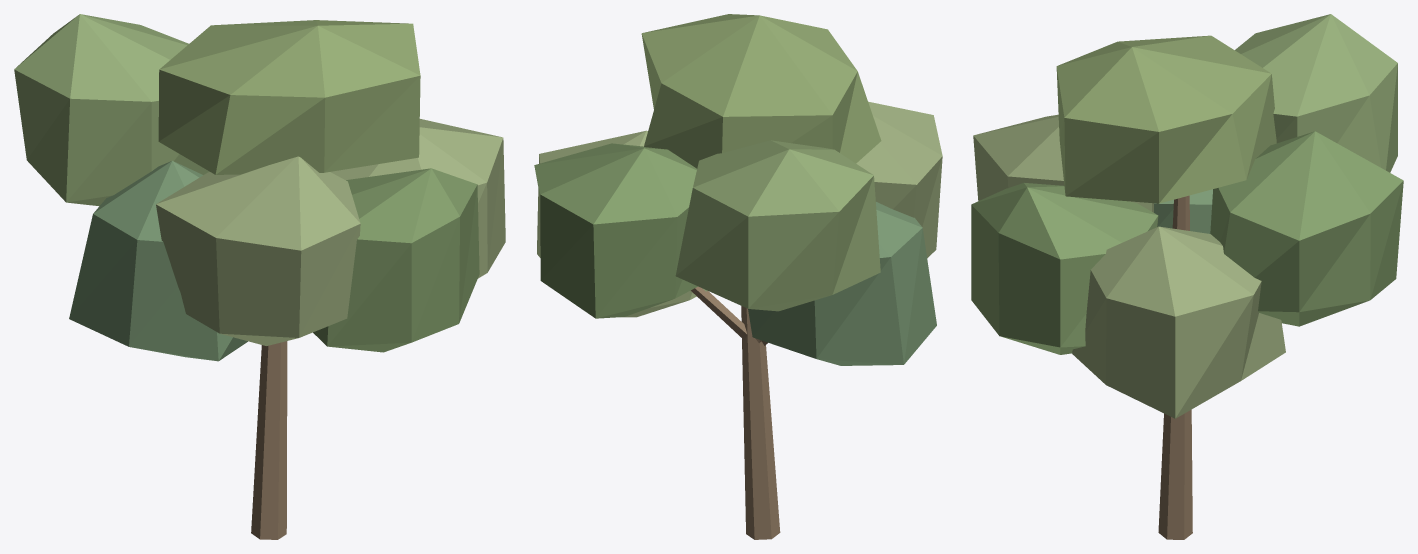
The picture shows the model from 3 angles, left to right: view 1: azimuth 30°, elevation 25°; view 2: azimuth 150°, elevation 25°; view 3: azimuth 270°, elevation 25°; orthographic projection. The views are drawn at different scales.
Bounding box in the file's own units: 6.89 × 8.33 × 6.54.
